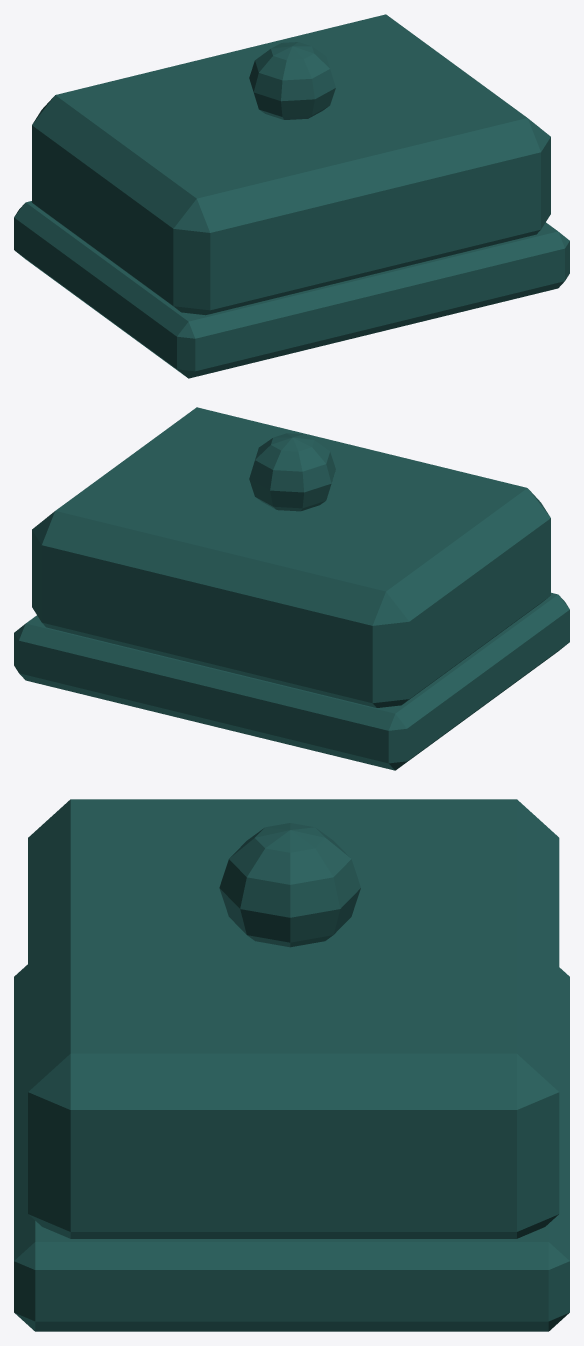
The model's file is headwear-beanie.high.9be19fbd.glb.
The picture shows the model from 3 angles, top to bottom: view 1: azimuth 30°, elevation 25°; view 2: azimuth 150°, elevation 25°; view 3: azimuth 270°, elevation 25°; orthographic projection. The views are drawn at different scales.
Parts seen in each view (by area): view 1: headwear-beanie; view 2: headwear-beanie; view 3: headwear-beanie.
Boxes of the visible parts, x1,y1,x2,y2 form: headwear-beanie: [14, 14, 569, 378]; headwear-beanie: [14, 407, 569, 770]; headwear-beanie: [14, 799, 569, 1331].
Bounding box in the file's own units: 1.01 × 0.5601 × 0.785.
